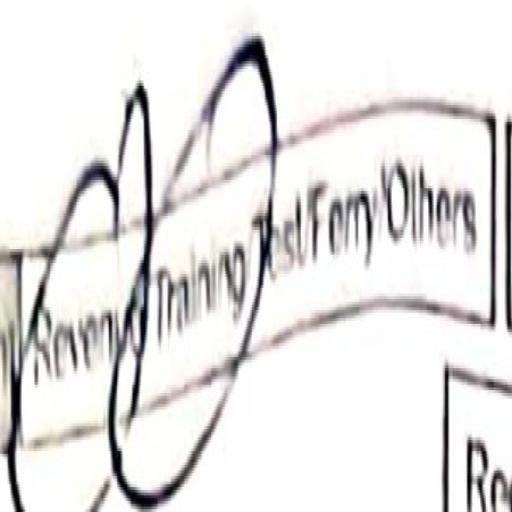check: (144, 28, 258, 504), (25, 205, 140, 492)
